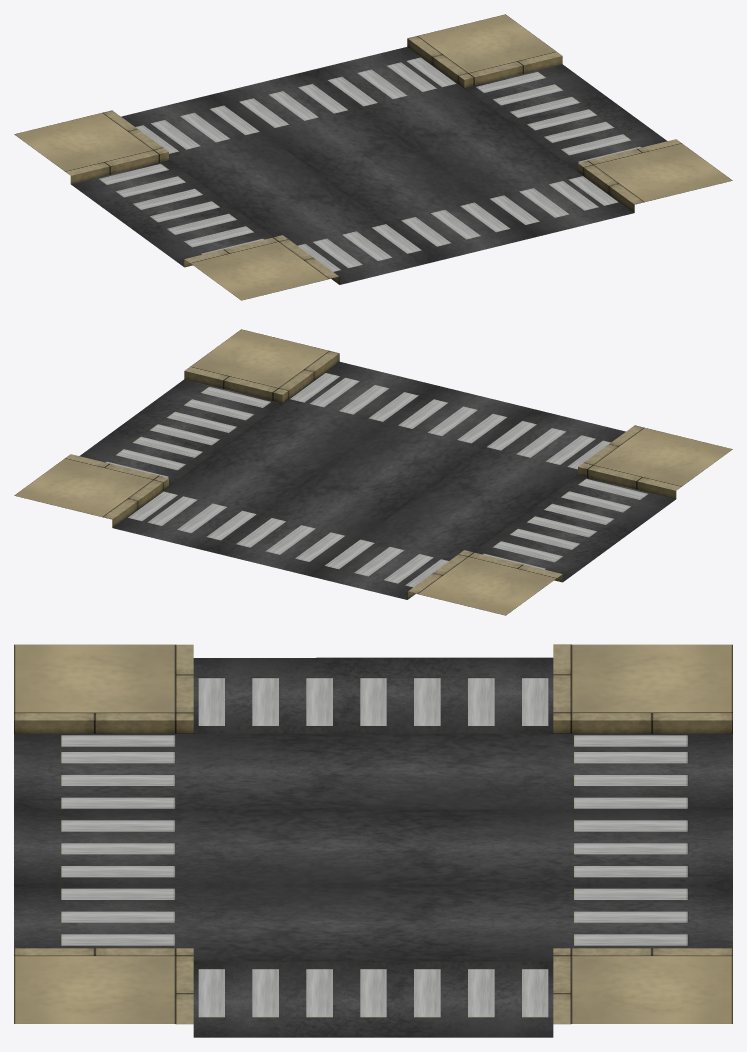
The model's file is Intersesction.fbx.
The picture shows the model from 3 angles, top to bottom: view 1: azimuth 30°, elevation 25°; view 2: azimuth 150°, elevation 25°; view 3: azimuth 270°, elevation 25°; orthographic projection. The views are drawn at different scales.
Visible parts, largest first — view 1: Intersection; view 2: Intersection; view 3: Intersection.
Boxes of the visible parts, bbox=[...] form: Intersection: bbox=[14, 14, 732, 300]; Intersection: bbox=[14, 329, 732, 615]; Intersection: bbox=[14, 644, 732, 1037].
Bounding box in the file's own units: 2500 × 40.84 × 2001.
